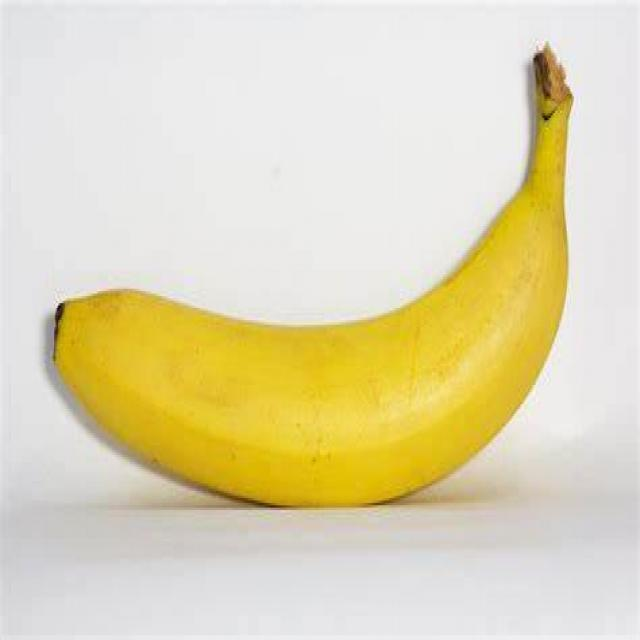Banana: (44, 42, 582, 504)
